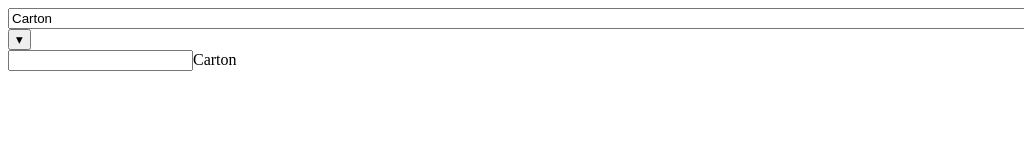
Test case: a field somebody can type into or pick from › LEAD-31: the arrows walk the chevron's full list without re-narrowing it
The image size is (1036, 160).
Later steps or results of the test are not shown.
Press the mouse on the button named "Show packaging options": (19, 40) [8,29,31,50]
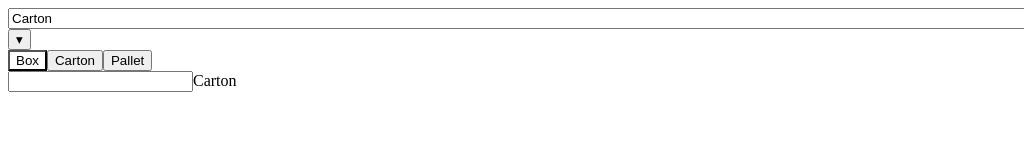
Check: the number of options is 3, box [8,50,47,71]; [47,50,103,71]; [103,50,152,71]
Press ArrowDown in the dropdown, box [8,8,1024,29]
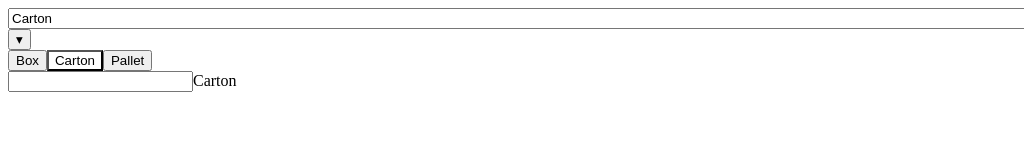
Check: the number of options is 3, box [8,50,47,71]; [47,50,103,71]; [103,50,152,71]
